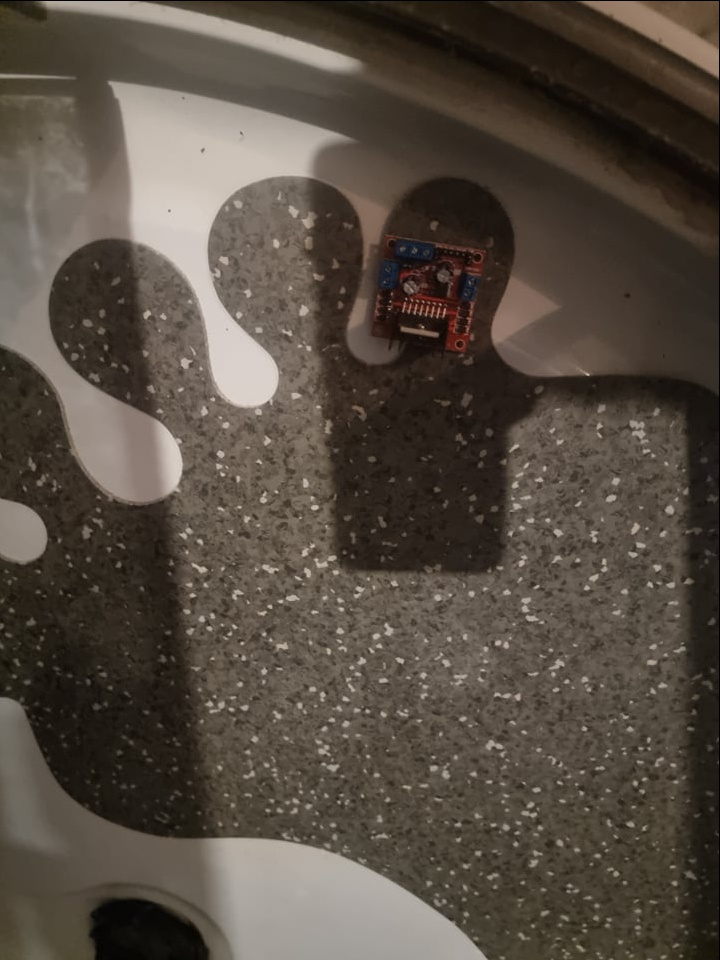MOTOR: (370, 231, 491, 358)
